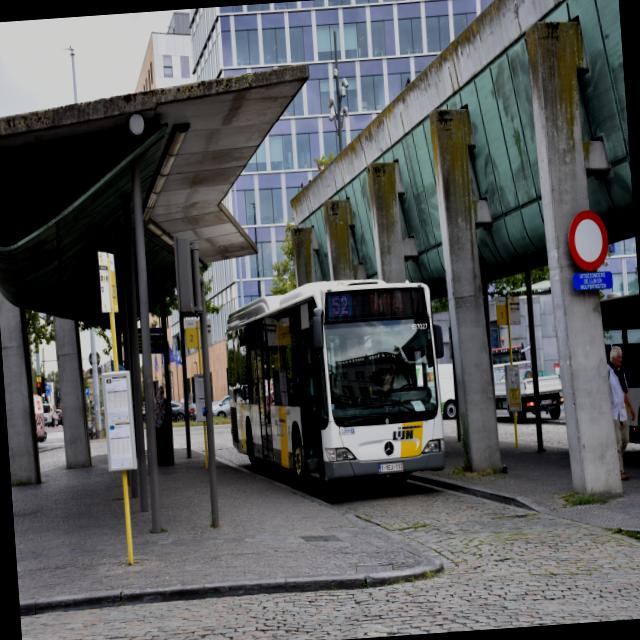bus-number: (327, 292, 352, 317)
